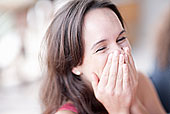face: (87, 12, 136, 87)
